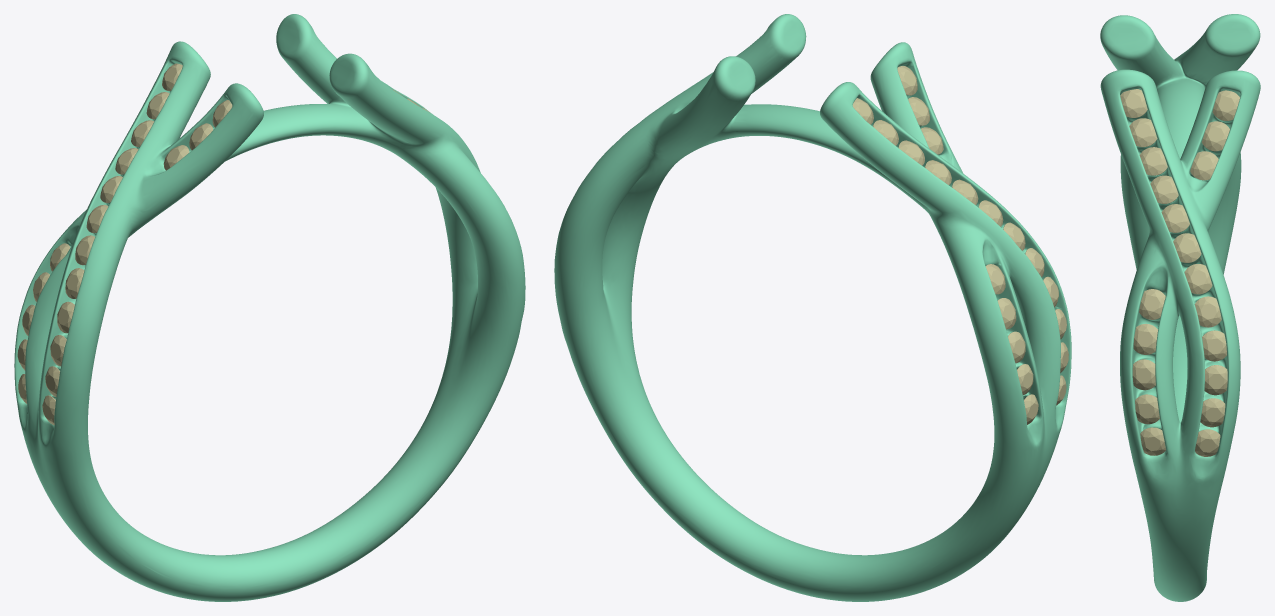
3 renders of one model, left to right at view 1: azimuth 30°, elevation 25°; view 2: azimuth 150°, elevation 25°; view 3: azimuth 270°, elevation 25°, orthographic.
Visible parts, largest first — view 1: Metal02; view 2: Metal02; view 3: Metal02, Diamond_Gem.031, Diamond_Gem.032, Diamond_Gem.025, Diamond_Gem.026, Diamond_Gem.027, Diamond_Gem.033, Diamond_Gem.002, Diamond_Gem.024, Diamond_Gem.001, Diamond_Gem.030, Diamond_Gem.034 (+9 smaller).
Boxes of the visible parts, x1,y1,x2,y2 form: Metal02: (14, 14, 525, 601); Metal02: (554, 14, 1071, 601); Metal02: (1100, 14, 1260, 601); Diamond_Gem.031: (1202, 330, 1226, 361); Diamond_Gem.032: (1194, 296, 1221, 327); Diamond_Gem.025: (1132, 359, 1155, 390); Diamond_Gem.026: (1133, 323, 1157, 354); Diamond_Gem.027: (1139, 289, 1165, 319); Diamond_Gem.033: (1184, 264, 1212, 294); Diamond_Gem.002: (1212, 90, 1239, 120); Diamond_Gem.024: (1135, 394, 1159, 424); Diamond_Gem.001: (1202, 121, 1229, 151); Diamond_Gem.030: (1204, 365, 1227, 395); Diamond_Gem.034: (1173, 233, 1201, 262).
Bounding box in the file's own units: 20.87 × 22.74 × 6.18.
